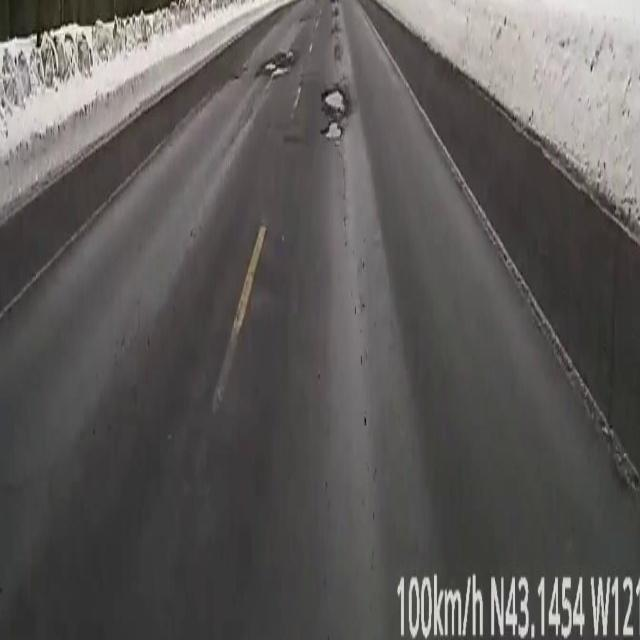pothole: (322, 84, 348, 142), (260, 52, 294, 76)
